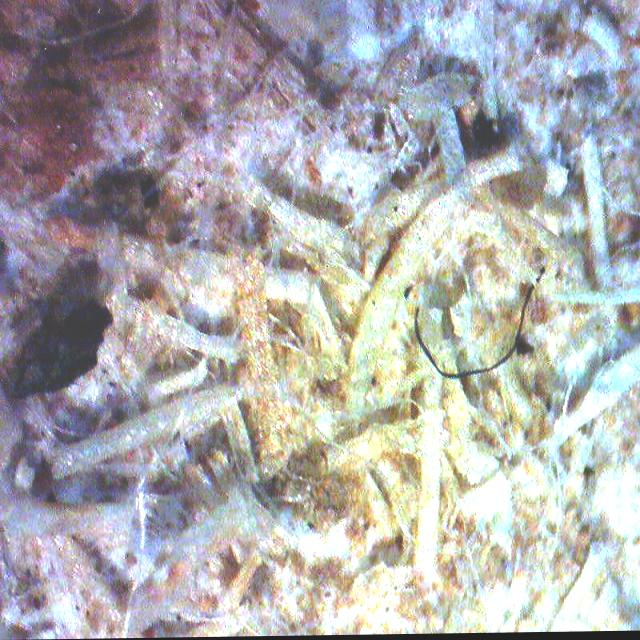microplastic: (415, 269, 545, 380)
